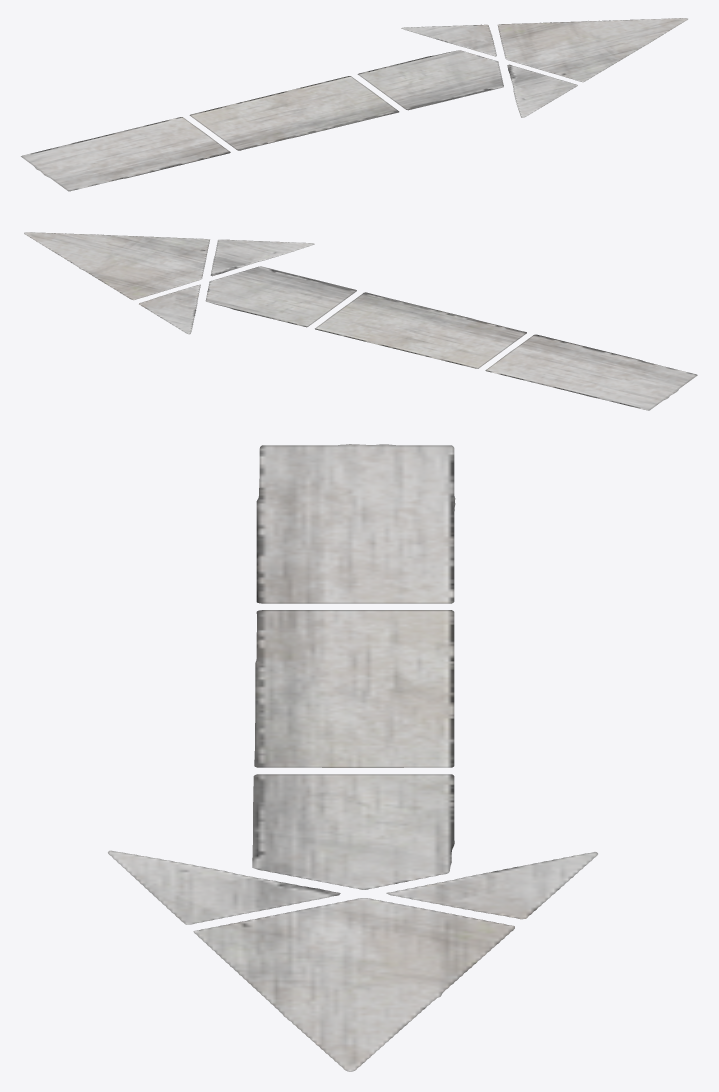
The model's file is MB_Arrow_Straight.fbx.
The picture shows the model from 3 angles, top to bottom: view 1: azimuth 30°, elevation 25°; view 2: azimuth 150°, elevation 25°; view 3: azimuth 270°, elevation 25°; orthographic projection. The views are drawn at different scales.
Visible parts, largest first — view 1: MB_Arrow_Straight; view 2: MB_Arrow_Straight; view 3: MB_Arrow_Straight.
Boxes of the visible parts, x1,y1,x2,y2 form: MB_Arrow_Straight: (21, 18, 687, 191); MB_Arrow_Straight: (24, 232, 697, 410); MB_Arrow_Straight: (108, 444, 597, 1071).
Size of the model in its own units: 149 by 0 by 52.82.
